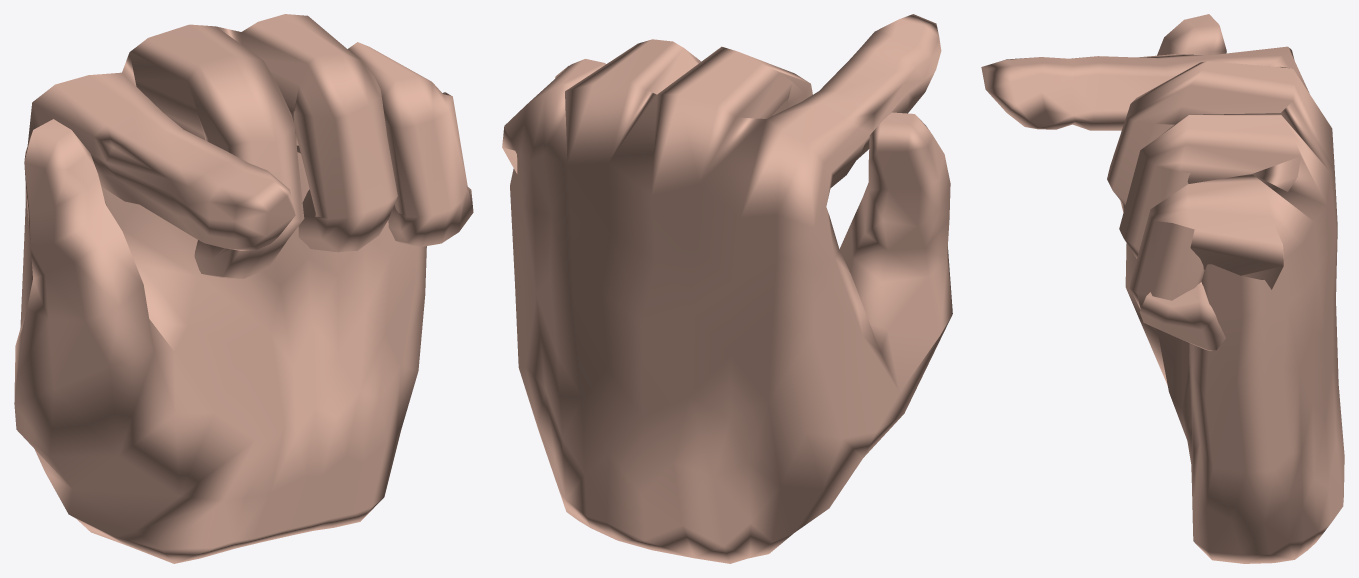
File: MAO_SETE.obj
3 views of the same model, side by side, from view 1: azimuth 30°, elevation 25°; view 2: azimuth 150°, elevation 25°; view 3: azimuth 270°, elevation 25° (orthographic). The views are drawn at different scales.
Visible parts, largest first — view 1: mao_dir polySurface1; view 2: mao_dir polySurface1; view 3: mao_dir polySurface1.
Part boxes in pixels (x1=…): mao_dir polySurface1: x1=14, y1=14, x2=473, y2=563; mao_dir polySurface1: x1=502, y1=14, x2=952, y2=563; mao_dir polySurface1: x1=981, y1=14, x2=1344, y2=563.
Size of the model in its own units: 136 by 151 by 114.
